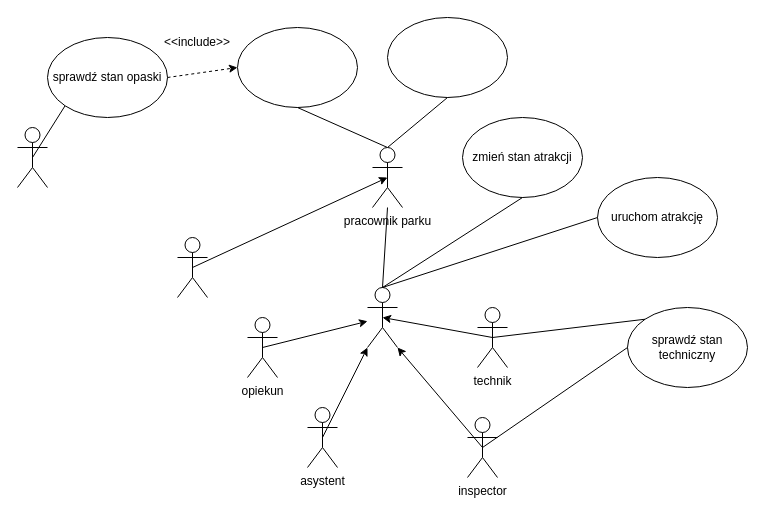
Some shapes in this 765 by 516 pixel diagram are drawn without their labels. The centre of each missing label's shape, as x and y in pixels:
gość: (32,157)
odczytaj stan atrakcji: (447,57)
operator atrakcji: (382,317)
otwórz bramkę: (297,67)
sprzątacz: (192,267)
